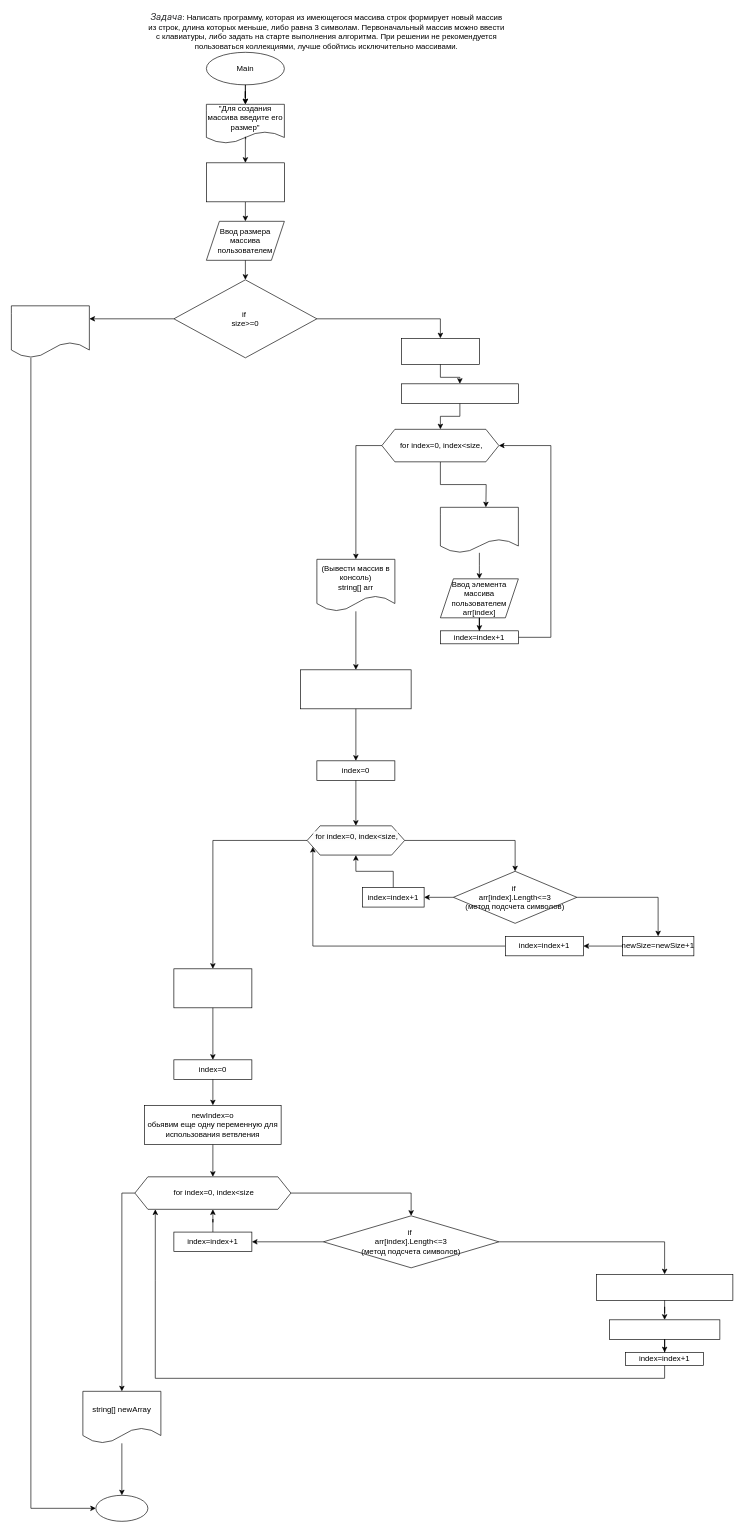
Image size: 744x1533. Some labels were removed from this diagram. The shapes that lost their labels are listed below. From the top down, each one's centre as x and y in pixels, then its label:
point (245, 182): зададим переменную size (размер будущего массива)
point (50, 331): "Массив такого размера задать невозможно"
point (440, 351): зададим массив размером size array[size]
point (459, 393): index=0 (переменная для цикла)
point (479, 530): "Введите элемент массива array[index]
point (355, 689): объявим переменную переменную newSize=o это размер нового массива
point (212, 988): зададим массив размером newSize newArray[newSize]
point (664, 1287): newArray[newIndex]=arr[index]
point (664, 1329): newIndex= newIndex+1
point (121, 1508): End
